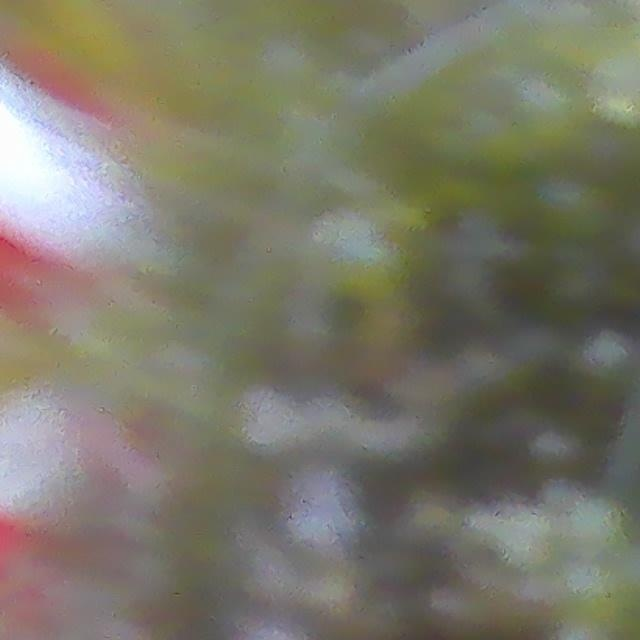SeaGrape: (567, 495, 625, 554)
